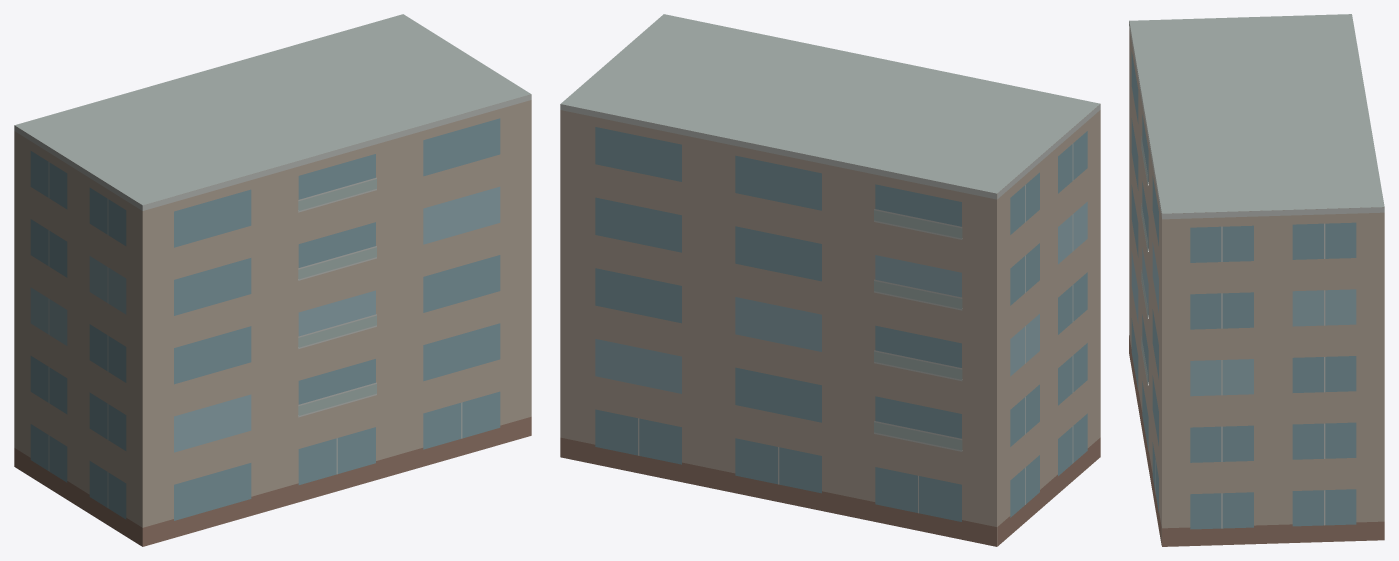
File: survey-upis-32995403.glb
The picture shows the model from 3 angles, left to right: view 1: azimuth 30°, elevation 25°; view 2: azimuth 150°, elevation 25°; view 3: azimuth 270°, elevation 25°; orthographic projection. The views are drawn at different scales.
Visible parts, largest first — view 1: survey-upis-32995403.tmp; view 2: survey-upis-32995403.tmp; view 3: survey-upis-32995403.tmp.
Part boxes in pixels (bbox=[...]): survey-upis-32995403.tmp: bbox=[14, 14, 531, 546]; survey-upis-32995403.tmp: bbox=[560, 14, 1100, 546]; survey-upis-32995403.tmp: bbox=[1129, 14, 1384, 546].
Bounding box in the file's own units: 18.59 × 14.45 × 10.05.
